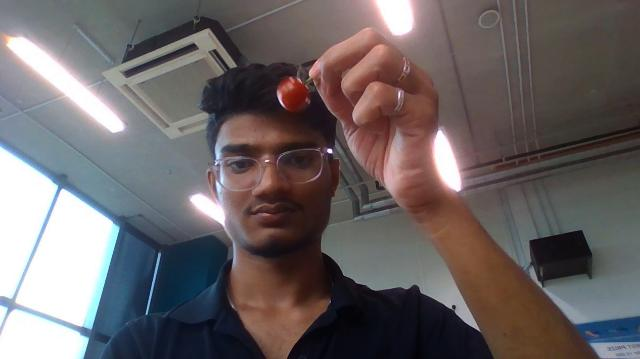Fully Grown: (276, 75, 311, 114)
